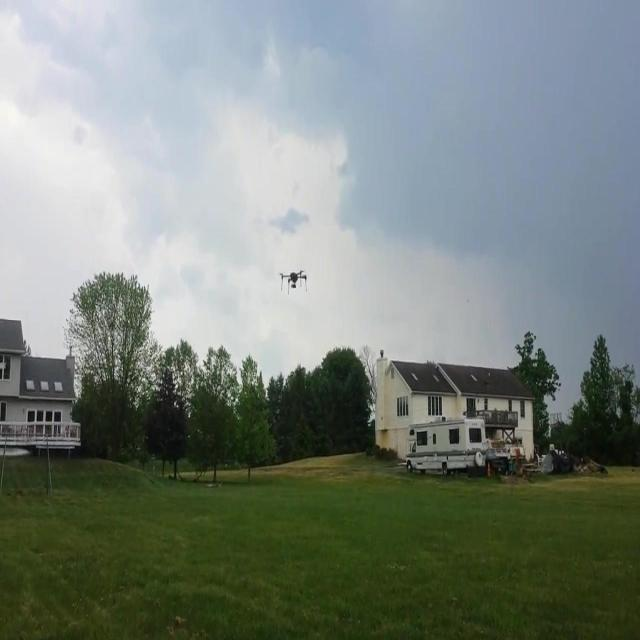drone: (278, 269, 310, 295)
